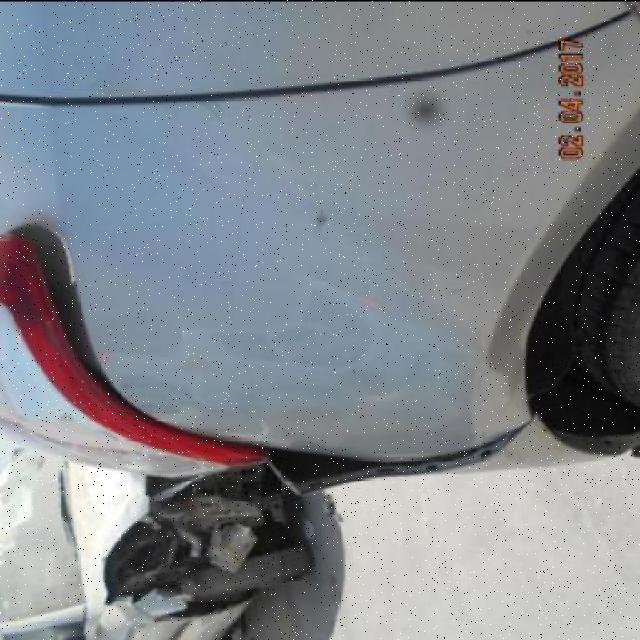damage: (266, 411, 540, 498), (401, 92, 447, 127), (196, 97, 236, 125), (302, 202, 336, 234)
